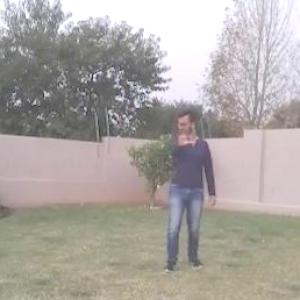follow_hand: (170, 122, 195, 148)
